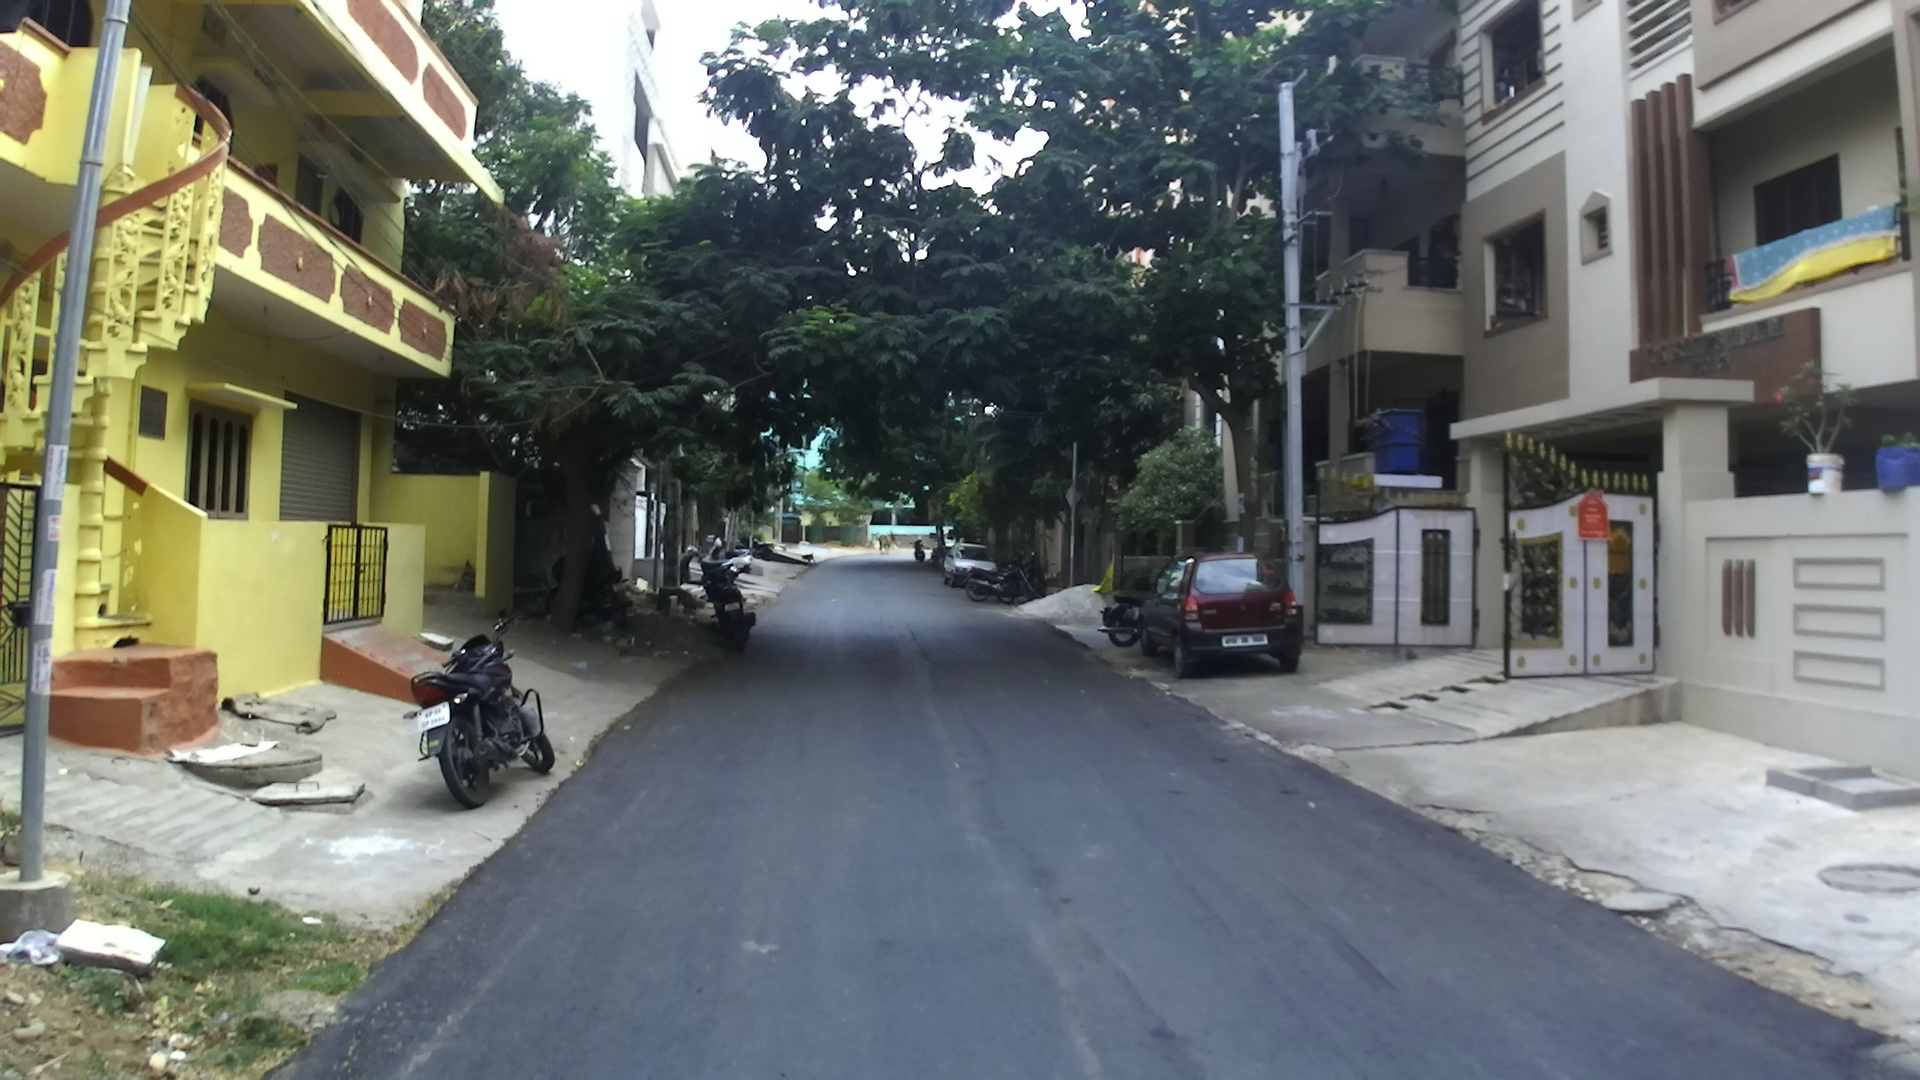vehicle: (409, 626, 559, 810), (1137, 555, 1305, 676), (429, 665, 556, 808), (1101, 560, 1185, 647), (690, 553, 760, 649), (1100, 570, 1166, 641), (942, 546, 1005, 595)
